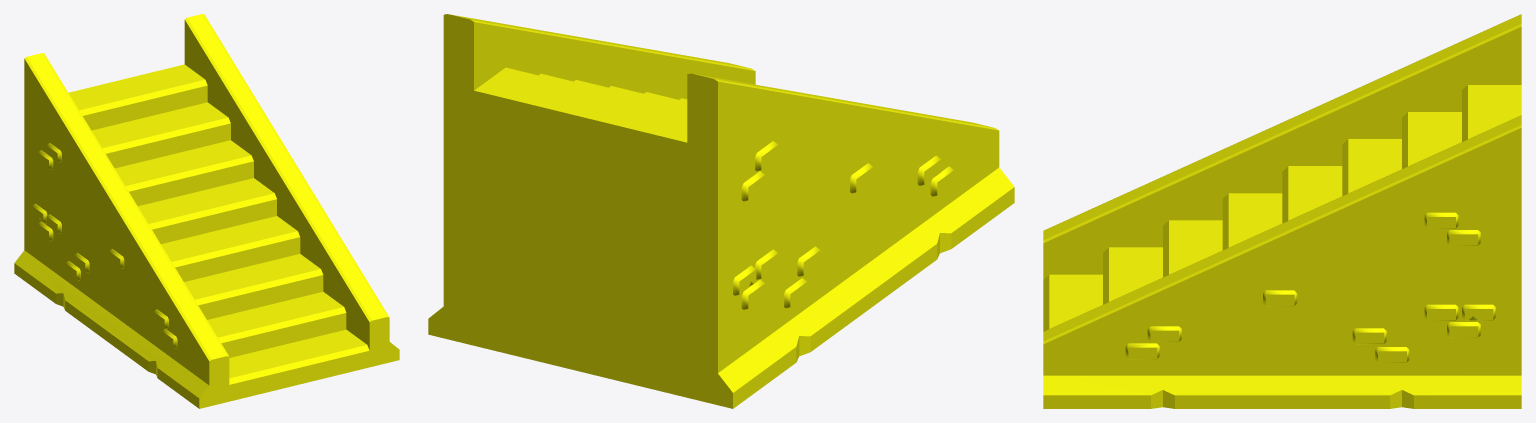
Rendered from kaykit-stairs-long.glb.
The picture shows the model from 3 angles, left to right: view 1: azimuth 30°, elevation 25°; view 2: azimuth 150°, elevation 25°; view 3: azimuth 270°, elevation 25°; orthographic projection. The views are drawn at different scales.
Visible parts, largest first — view 1: stairs_long; view 2: stairs_long; view 3: stairs_long.
Part boxes in pixels (x1,y1,x2,y2): stairs_long: (14,14,399,408); stairs_long: (428,14,1014,408); stairs_long: (1043,14,1521,408).
Size of the model in its own units: 5 by 5.1 by 8.
